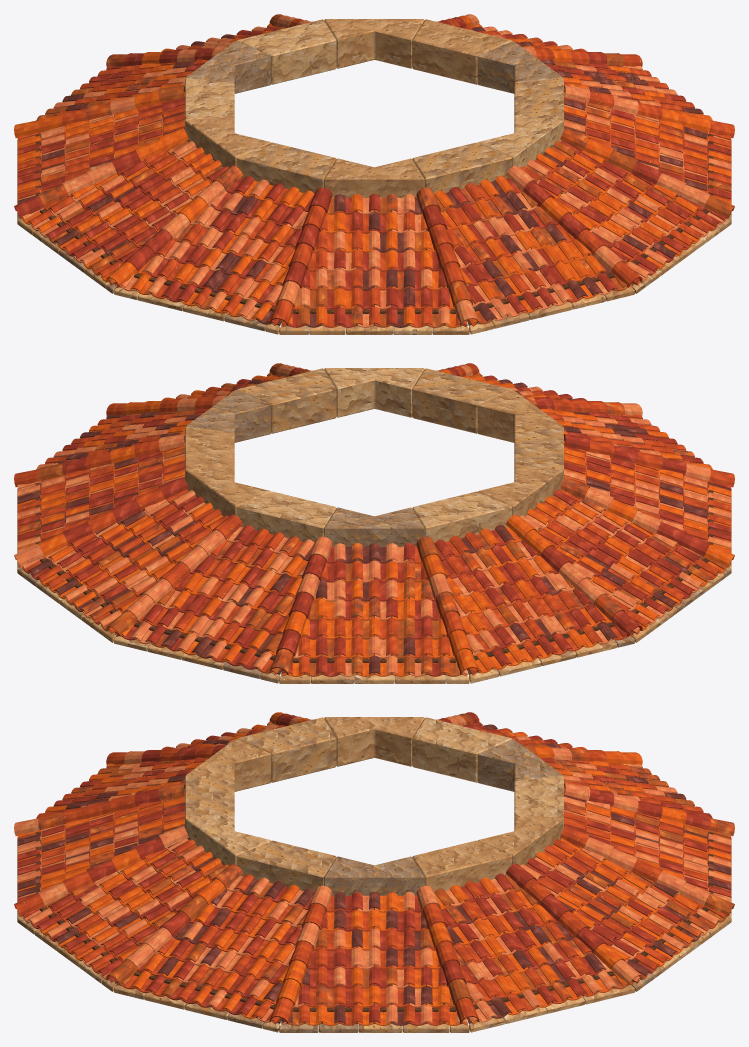
The model's file is kiln_crown__clay_brick.glb.
3 views of the same model, one above another, from view 1: azimuth 30°, elevation 25°; view 2: azimuth 150°, elevation 25°; view 3: azimuth 270°, elevation 25° (orthographic).
Parts seen in each view (by area): view 1: model; view 2: model; view 3: model.
Part boxes in pixels (x1,y1,x2,y2): model: (14, 14, 734, 334); model: (14, 363, 734, 683); model: (14, 712, 734, 1032).
Size of the model in its own units: 8.26 by 1.08 by 8.26.
12 materials, 12 textured.
